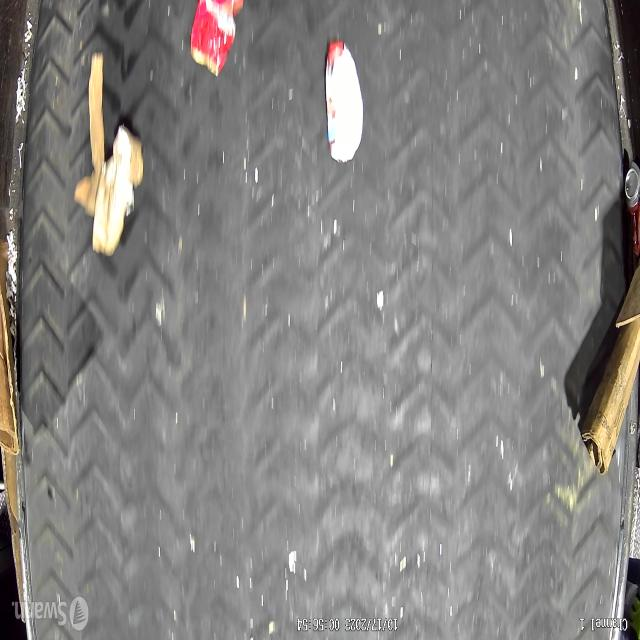can: (624, 162, 640, 255)
